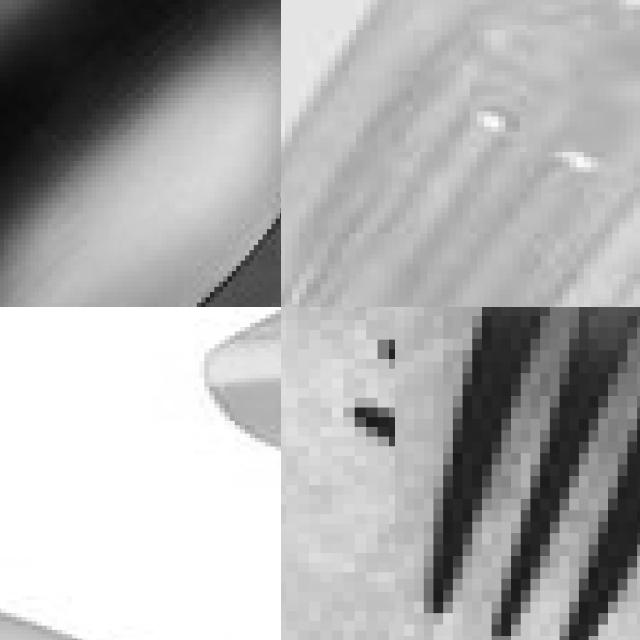forks: (281, 0, 640, 307), (352, 307, 640, 640)
spoons: (0, 0, 281, 307)
